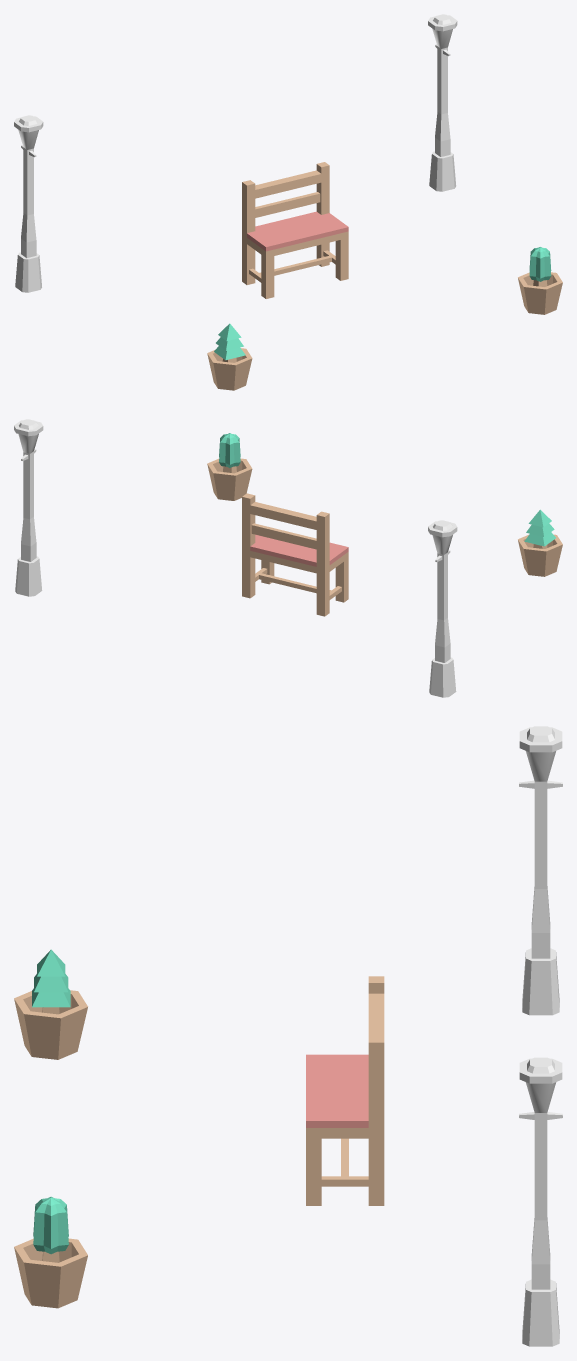
Rendered from combo-night-rest.glb.
3 renders of one model, top to bottom at view 1: azimuth 30°, elevation 25°; view 2: azimuth 150°, elevation 25°; view 3: azimuth 270°, elevation 25°, orthographic. The views are drawn at different scales.
Parts seen in each view (by area): view 1: 00_asset-002, 02_asset-017, 01_asset-017, 04_asset-032, 03_asset-031; view 2: 00_asset-002, 01_asset-017, 02_asset-017, 04_asset-032, 03_asset-031; view 3: 00_asset-002, 02_asset-017, 01_asset-017, 04_asset-032, 03_asset-031.
Boxes of the visible parts, x1,y1,x2,y2 form: 00_asset-002: (242,162,348,298); 02_asset-017: (428,14,457,191); 01_asset-017: (14,115,43,292); 04_asset-032: (518,247,562,314); 03_asset-031: (207,323,252,390); 00_asset-002: (242,493,348,616); 01_asset-017: (428,520,457,697); 02_asset-017: (14,419,43,596); 04_asset-032: (207,433,252,500); 03_asset-031: (518,509,562,576); 00_asset-002: (306,976,384,1205); 02_asset-017: (519,1057,562,1346); 01_asset-017: (519,726,562,1015); 04_asset-032: (14,1196,87,1308); 03_asset-031: (14,949,87,1059).
Bounding box in the file's own units: 4.22 × 1.56 × 2.8.
